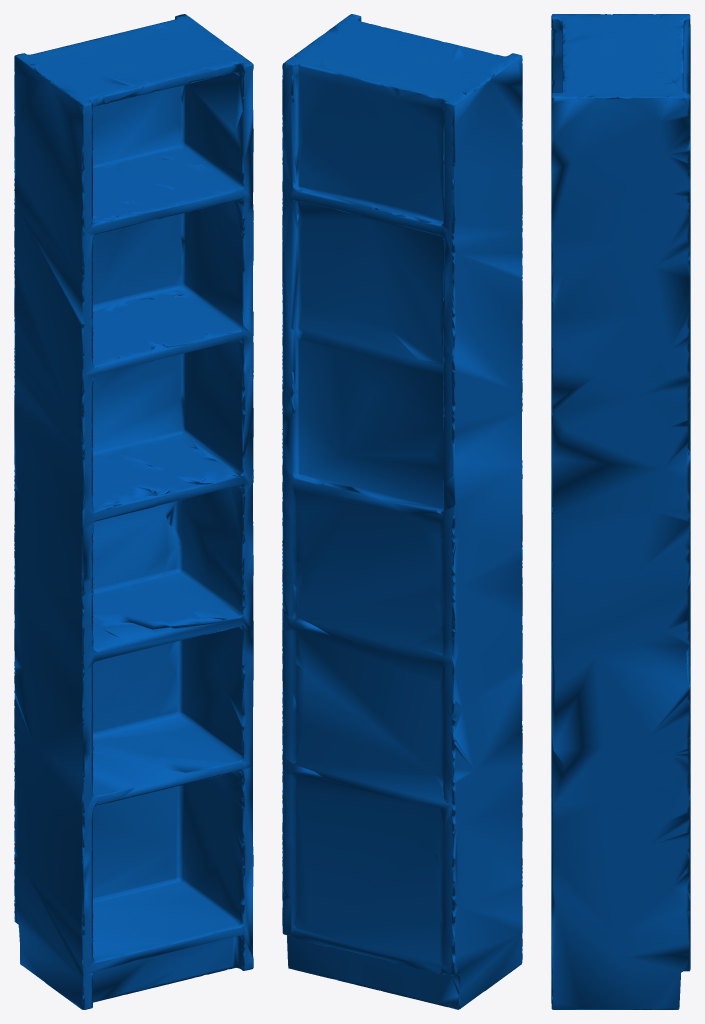
The model's file is meshy-ikea-40594928.glb.
The picture shows the model from 3 angles, left to right: view 1: azimuth 30°, elevation 25°; view 2: azimuth 150°, elevation 25°; view 3: azimuth 270°, elevation 25°; orthographic projection.
Visible parts, largest first — view 1: Exact catalog scale: ikea-40594928; view 2: Exact catalog scale: ikea-40594928; view 3: Exact catalog scale: ikea-40594928.
Boxes of the visible parts, x1,y1,x2,y2 form: Exact catalog scale: ikea-40594928: (14,14,253,1009); Exact catalog scale: ikea-40594928: (282,14,522,1009); Exact catalog scale: ikea-40594928: (551,14,690,1009).
Size of the model in its own units: 0.4 by 2.02 by 0.279.
Materials: 1 (1 with a texture image).
